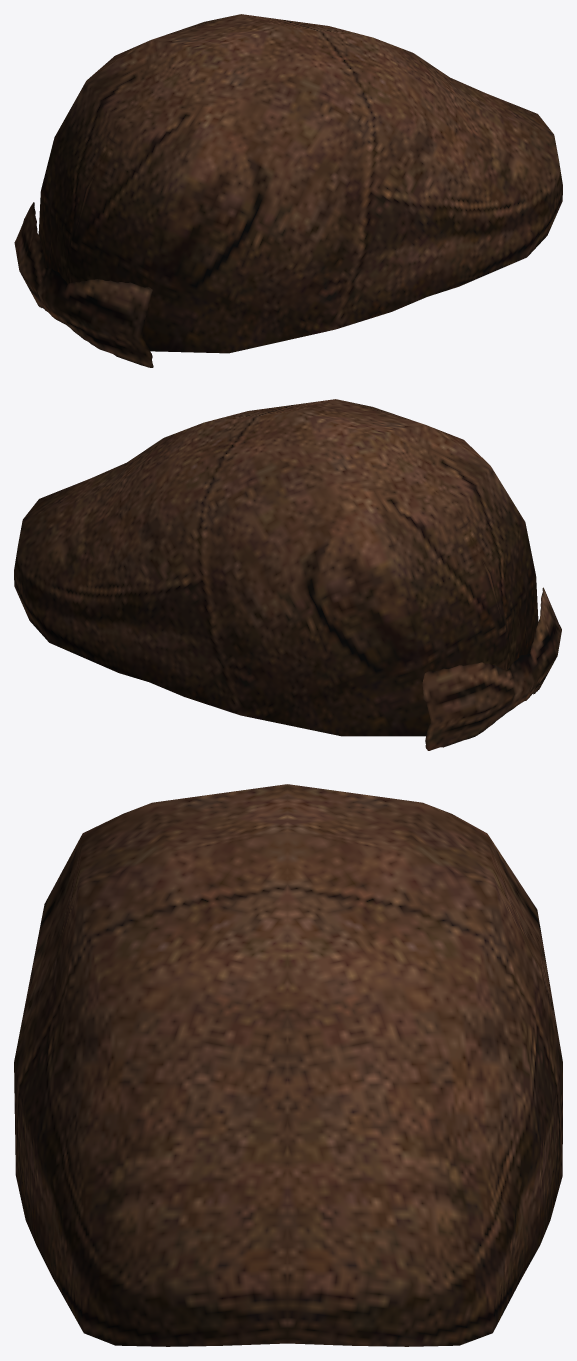
The model's file is hat_0450034.FBX.
3 views of the same model, one above another, from view 1: azimuth 30°, elevation 25°; view 2: azimuth 150°, elevation 25°; view 3: azimuth 270°, elevation 25° (orthographic). The views are drawn at different scales.
Parts seen in each view (by area): view 1: hat_0450034; view 2: hat_0450034; view 3: hat_0450034.
Part boxes in pixels (bbox=[...]): hat_0450034: bbox=[14, 14, 562, 367]; hat_0450034: bbox=[14, 399, 561, 750]; hat_0450034: bbox=[14, 784, 562, 1346].
Size of the model in its own units: 32.18 by 15.6 by 19.51.
